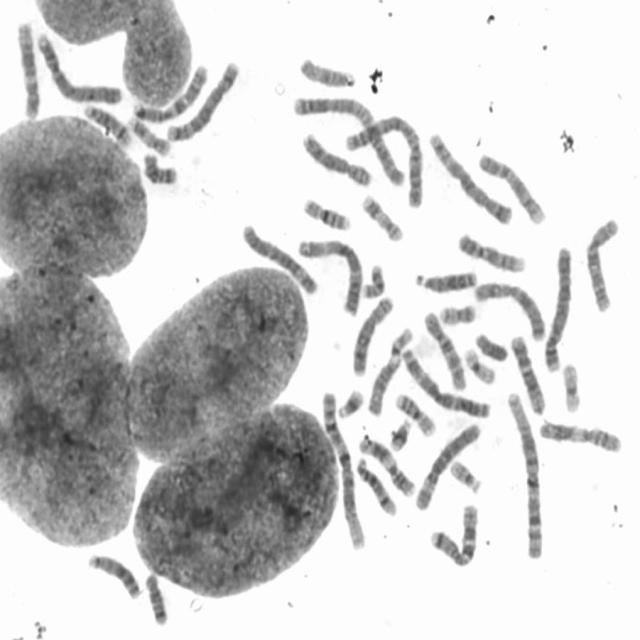A1: (318, 386, 367, 552), (504, 388, 545, 560)
A2: (290, 91, 407, 189), (340, 111, 426, 211)
A3: (399, 345, 493, 420), (296, 234, 364, 317)
B4: (34, 29, 123, 107), (541, 243, 573, 373)
B5: (427, 128, 514, 226), (165, 57, 241, 143)
C10: (582, 214, 622, 316), (421, 308, 466, 393)
C11: (355, 433, 417, 500), (536, 416, 624, 455)
C12: (507, 331, 547, 416), (15, 19, 41, 120)
C6: (412, 419, 482, 512), (239, 220, 319, 296)
C7: (129, 61, 209, 126), (427, 500, 480, 569)
C8: (300, 129, 372, 189), (349, 293, 395, 377)
C9: (475, 150, 548, 227), (455, 230, 527, 274)
D13: (85, 551, 142, 600), (412, 266, 478, 295)
D14: (354, 454, 398, 518), (81, 102, 132, 148)
D15: (364, 352, 400, 417), (298, 54, 358, 90)
E16: (393, 389, 437, 438), (300, 194, 352, 232)
E17: (359, 191, 405, 244), (125, 114, 172, 158)
E18: (141, 150, 179, 187), (143, 570, 168, 626)
F19: (462, 345, 497, 386), (560, 358, 582, 414)
F20: (437, 300, 478, 326), (359, 261, 386, 300)
G21: (334, 385, 366, 420), (386, 416, 414, 453)
G22: (447, 455, 483, 495), (386, 324, 415, 358)
X: (471, 280, 549, 340)
Y: (473, 330, 509, 363)
